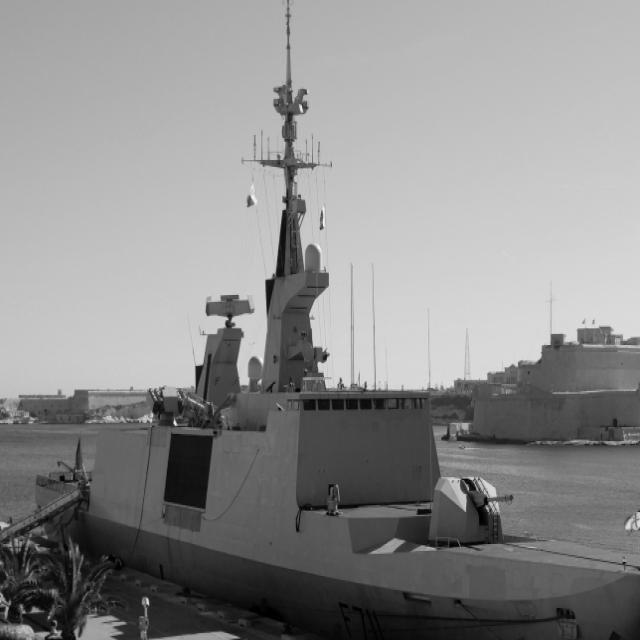Fragata: (25, 1, 640, 640)
